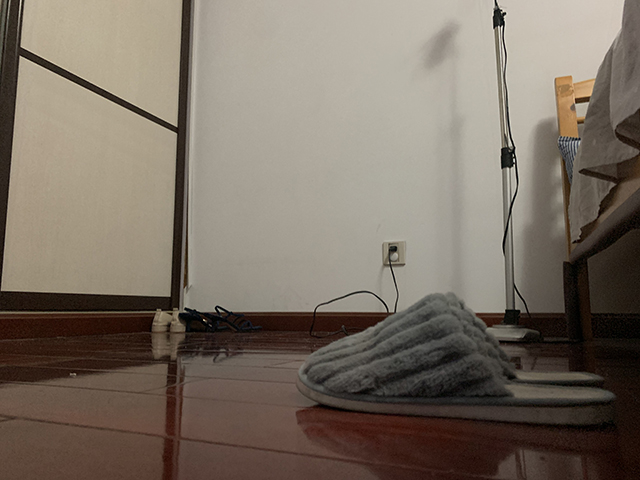cabinet: (1, 1, 194, 337)
slippers: (295, 291, 617, 427)
wire: (308, 237, 410, 334)
